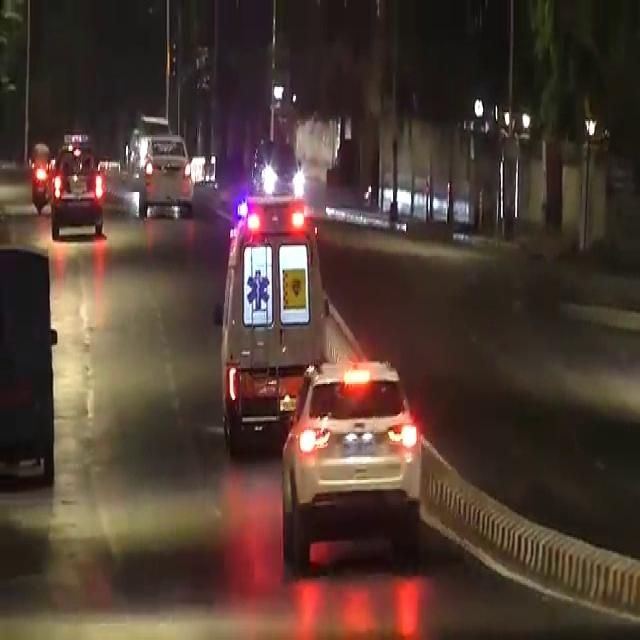ambulance: (219, 175, 320, 438)
